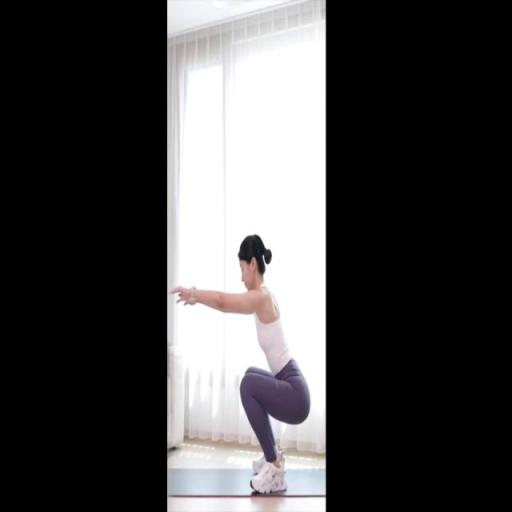Normal_BrenchPress: (171, 234, 312, 496)
